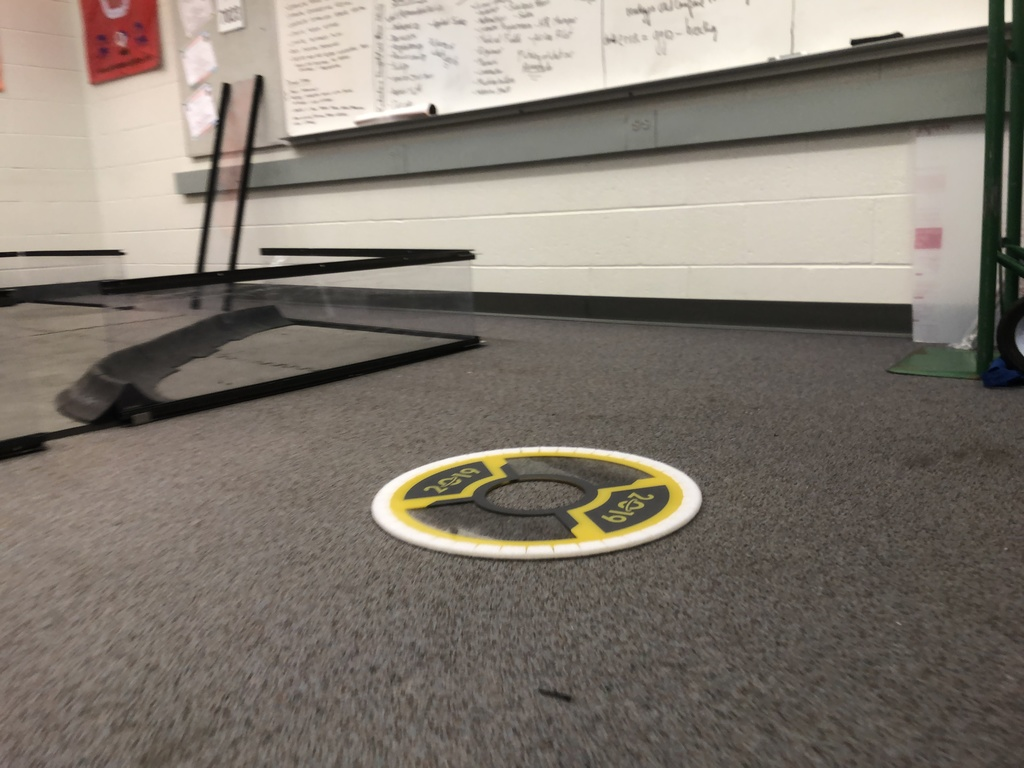hatch_panel: (366, 432, 715, 573)
